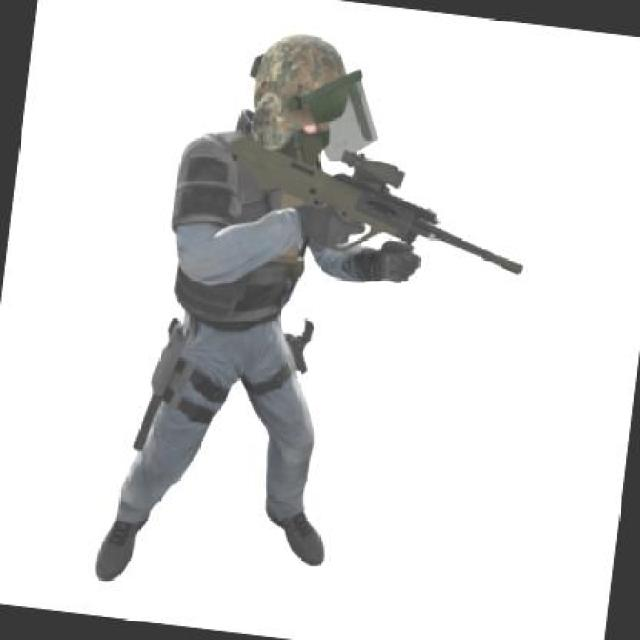MIL_Pax: (89, 10, 448, 616)
